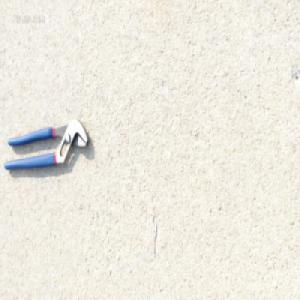Pliers: (3, 117, 89, 171)
